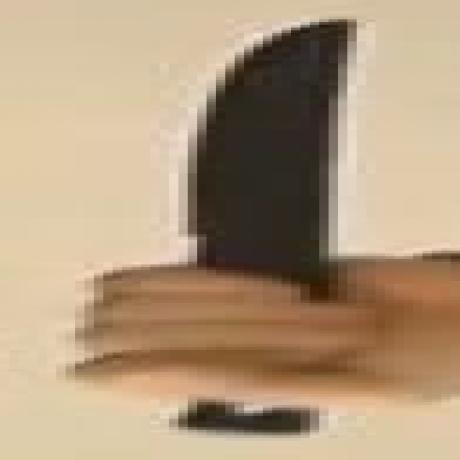1: (48, 254, 460, 414)
weapon: (163, 15, 387, 272)
